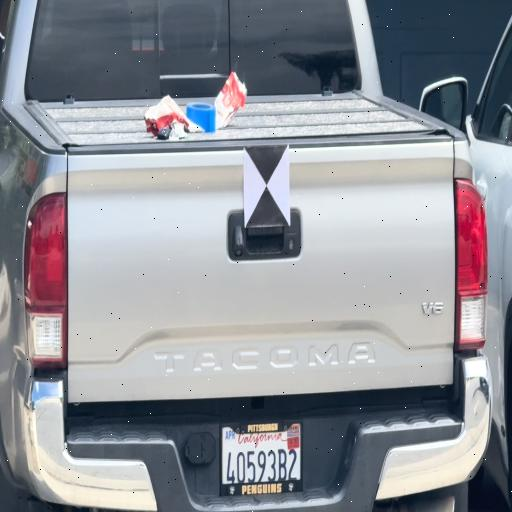target: (244, 146, 290, 225)
